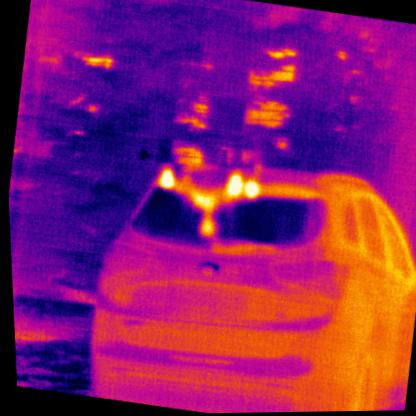drone: (145, 156, 262, 247)
vehicle: (69, 135, 415, 415)
